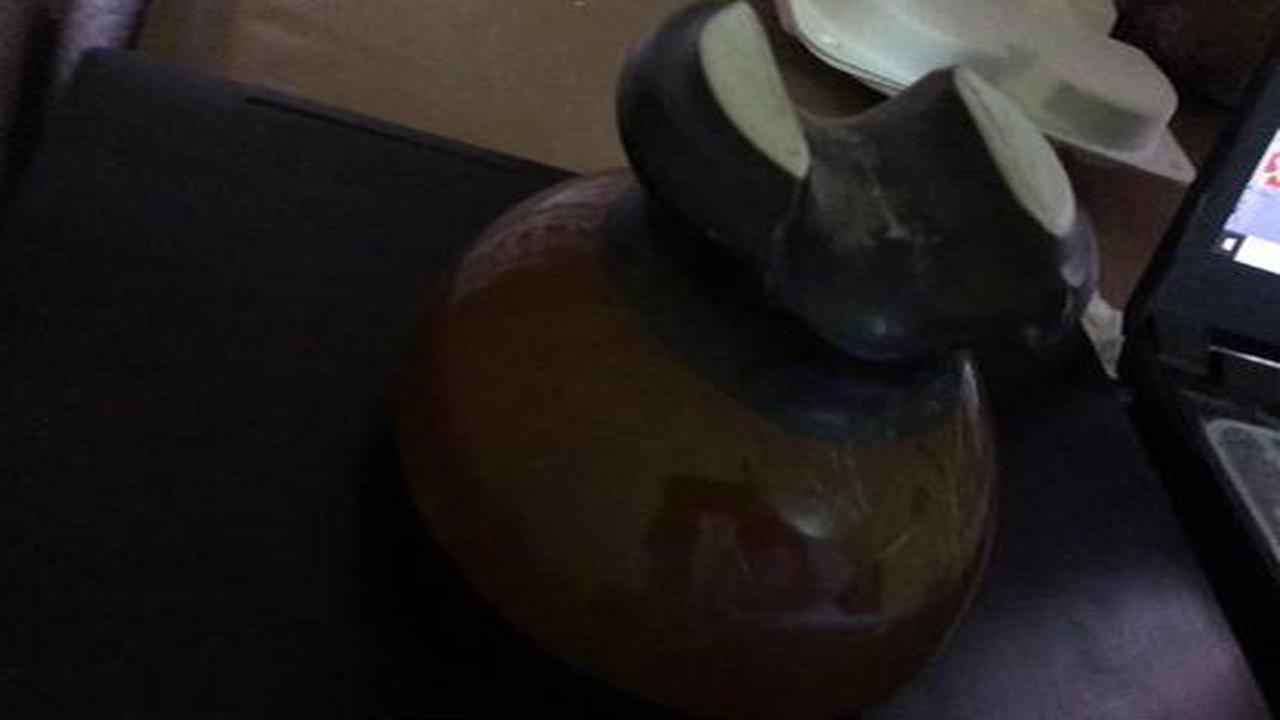insulator_pin: (385, 9, 1105, 691)
